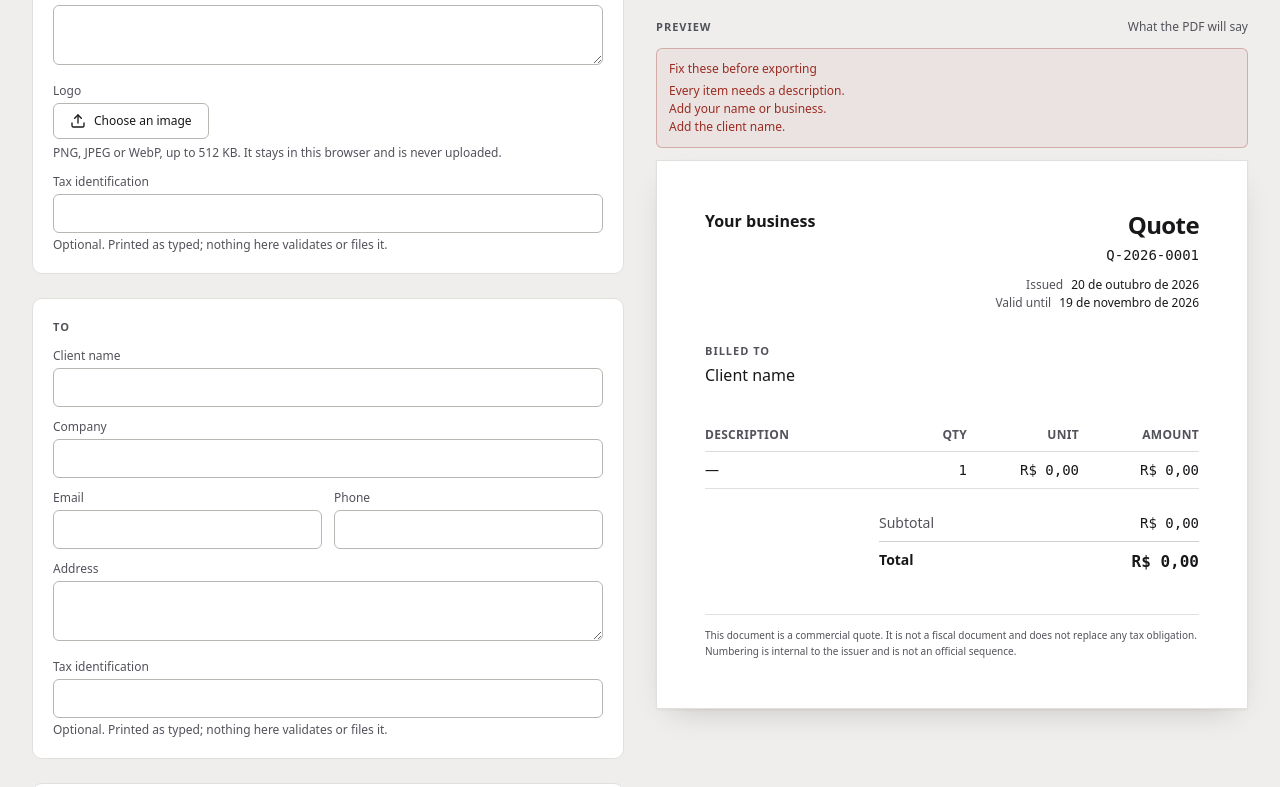
Scenario: the preview › shows what the editor says
(page scrolled)
In the field labelled "Client name": (328, 387) [53,368,603,406], type "Comercio Irmaos"
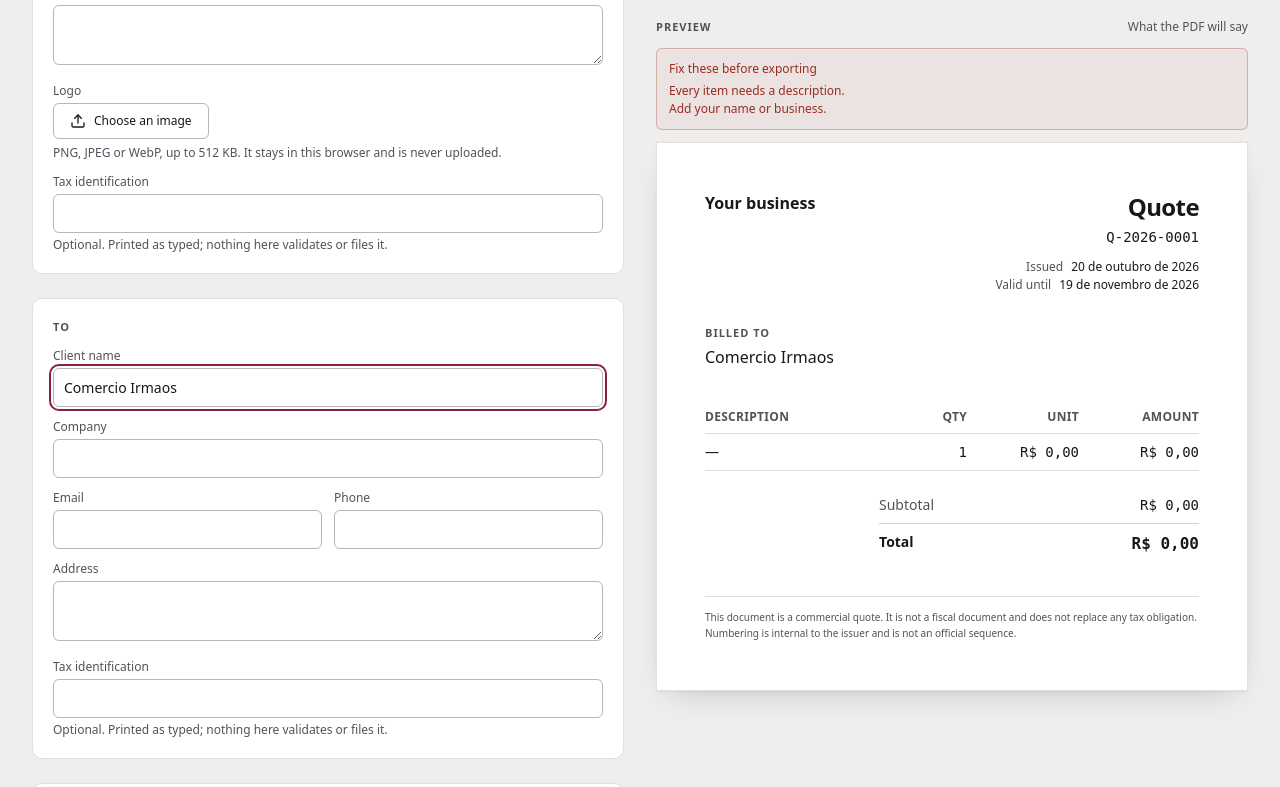
Result: the text "Comercio Irmaos" is shown at [705,346,834,368]
